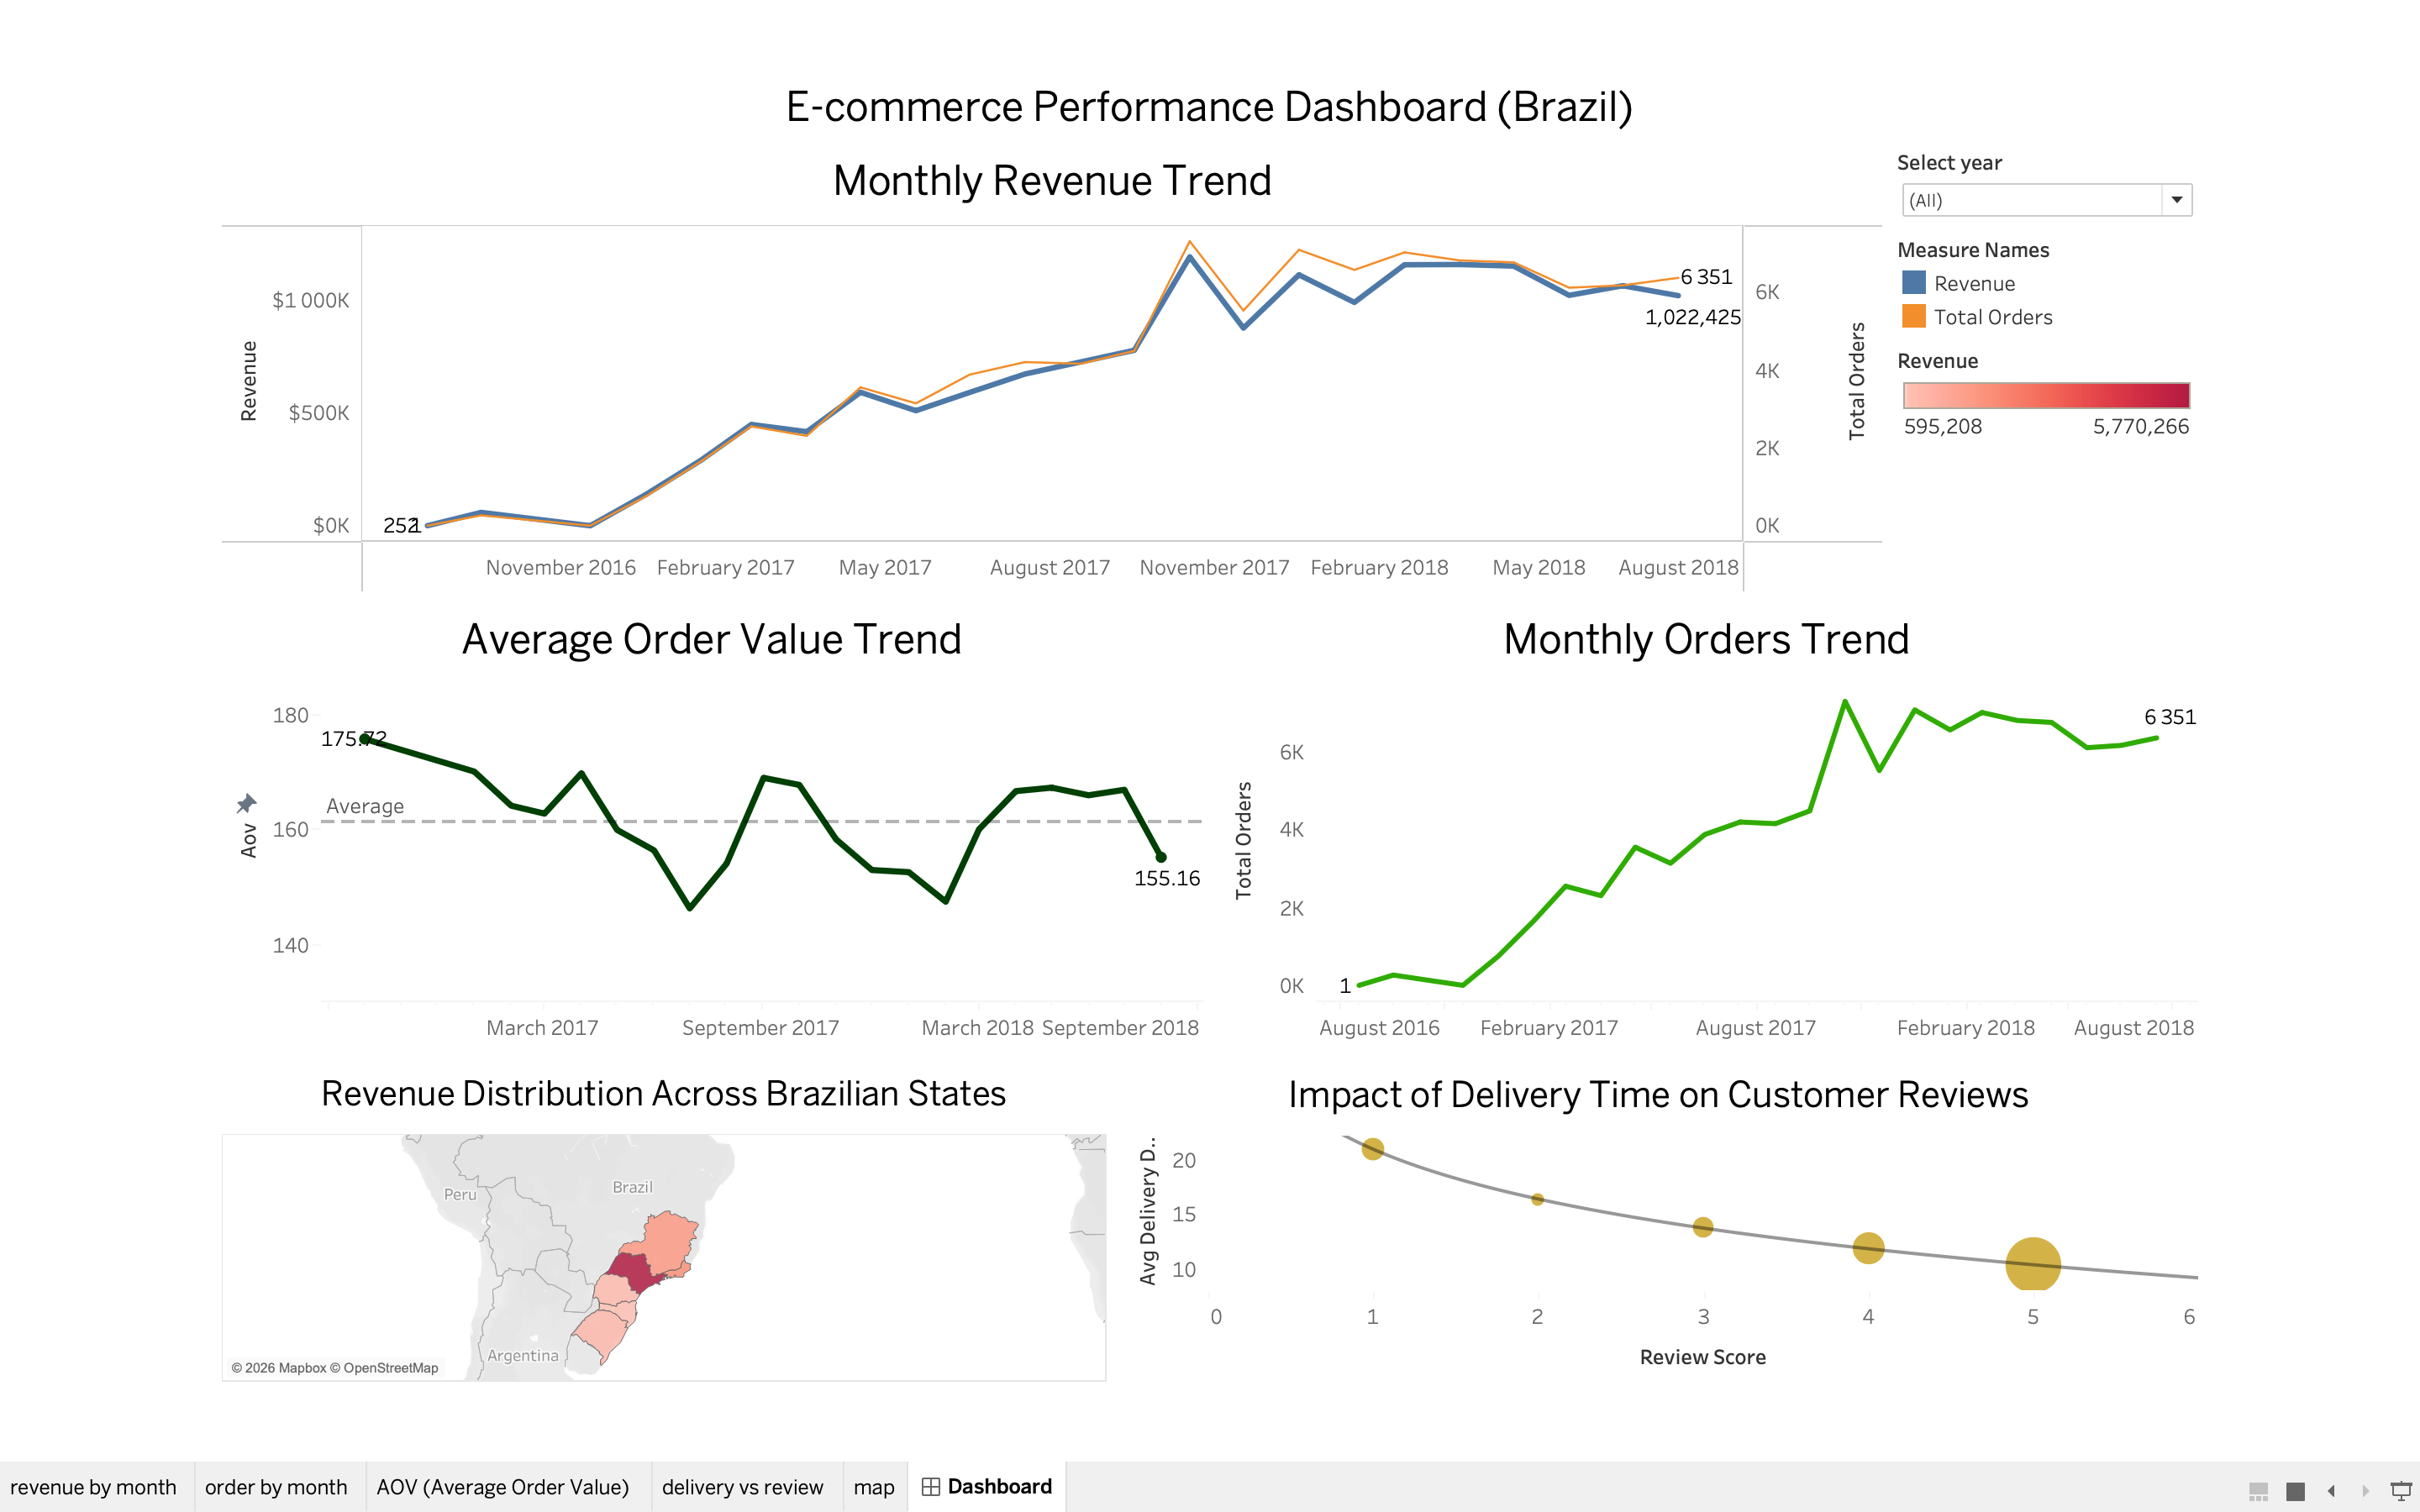

The page's visual inventory and layout, read from the dashboard file:
{"tool":"tableau","page":{"name":"Dashboard","canvas":[1200,800],"ordinal":0},"visuals":[{"type":"text","box":[8,8,1184,41]},{"type":"worksheet","title":"revenue by month","mark":"Line","rows":["revenue","total_orders"],"cols":["Calculation_2108645636321280"],"box":[8,49,997,273.2]},{"type":"filter","title":"revenue by month","param":"[federated.11i1qc60amweih1g2elr0063x3q2].[none:Calculation_2108645946740737:ok]","box":[1005,49,187,52]},{"type":"legend","title":"revenue by month","param":"[federated.11i1qc60amweih1g2elr0063x3q2].[:Measure Names]","box":[1005,101,187,66]},{"type":"legend","title":"map","param":"[federated.0q8q38e0wy0k3n1cxrs521fhjw86].[sum:revenue:qk]","box":[1005,167,187,65]},{"type":"worksheet","title":"AOV (Average Order Value)","mark":"Line","rows":["aov"],"cols":["month"],"box":[8,322.2,592,273.2]},{"type":"worksheet","title":"order by month","mark":"Line","rows":["total_orders"],"cols":["Calculation_2108645636321280"],"box":[600,322.2,592,273.2]},{"type":"worksheet","title":"map","mark":"Multipolygon","box":[8,595.3,535,196.7]},{"type":"worksheet","title":"delivery vs review","mark":"Circle","rows":["avg_delivery_days"],"cols":["review_score"],"box":[543,595.3,649,196.7]}]}

Visuals, with their boxes on the page's 1200x800 design canvas (x1, y1, x2, y2). These are canvas units, not pixel positions in the 2420x1512 screenshot, which may show the page scaled, cropped or inside an application window:
text: select_region(8, 8, 1192, 49)
"revenue by month" worksheet (Line marks): select_region(8, 49, 1005, 322)
"revenue by month" filter: select_region(1005, 49, 1192, 101)
"revenue by month" legend: select_region(1005, 101, 1192, 167)
"map" legend: select_region(1005, 167, 1192, 232)
"AOV (Average Order Value)" worksheet (Line marks): select_region(8, 322, 600, 595)
"order by month" worksheet (Line marks): select_region(600, 322, 1192, 595)
"map" worksheet (Multipolygon marks): select_region(8, 595, 543, 792)
"delivery vs review" worksheet (Circle marks): select_region(543, 595, 1192, 792)
